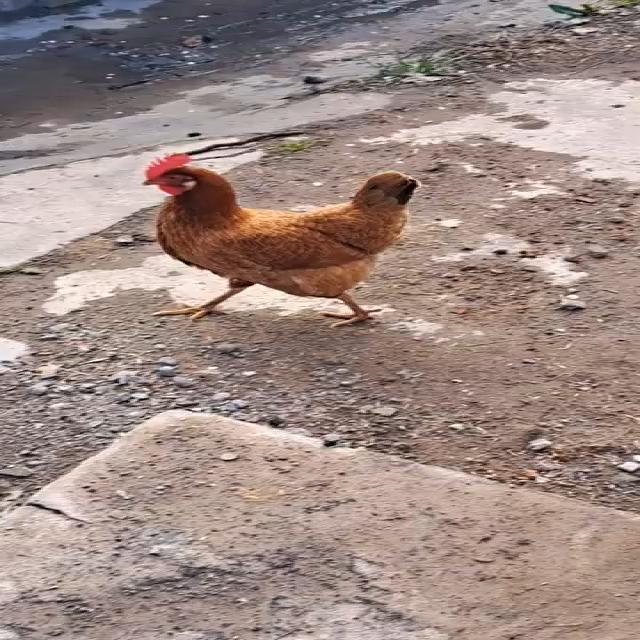walking: (132, 136, 430, 338)
